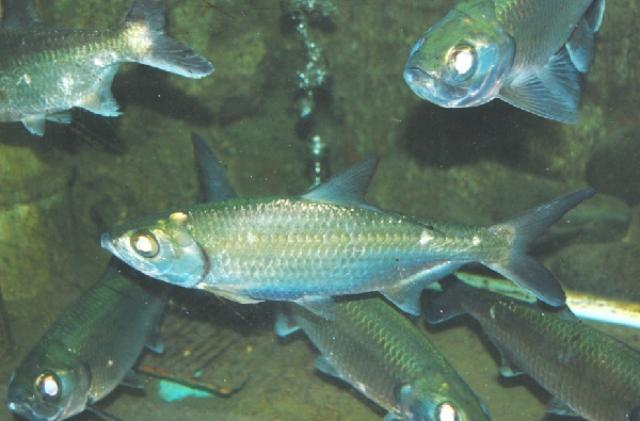Mulut: (91, 224, 133, 280), (392, 54, 444, 94), (4, 383, 52, 421)
Sirip Anal: (385, 258, 465, 320), (82, 66, 134, 124), (488, 344, 528, 400), (140, 323, 178, 359), (586, 0, 616, 40)
Sirip Dada: (499, 62, 586, 128), (200, 278, 258, 319), (84, 392, 126, 420)
Sirip Ekor: (492, 183, 602, 315), (117, 2, 220, 84)
Sirip Perut: (554, 11, 604, 78), (288, 288, 348, 328), (20, 103, 78, 141), (115, 358, 149, 394)
Sirip Punggung: (307, 147, 395, 224), (0, 1, 58, 34)
